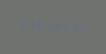eight: (17, 16, 25, 31), (35, 18, 43, 33)
five: (62, 20, 70, 35)
four: (80, 22, 88, 37)
nine: (71, 21, 79, 36), (53, 20, 61, 34)
seven: (44, 19, 52, 33)
three: (26, 17, 34, 32)
